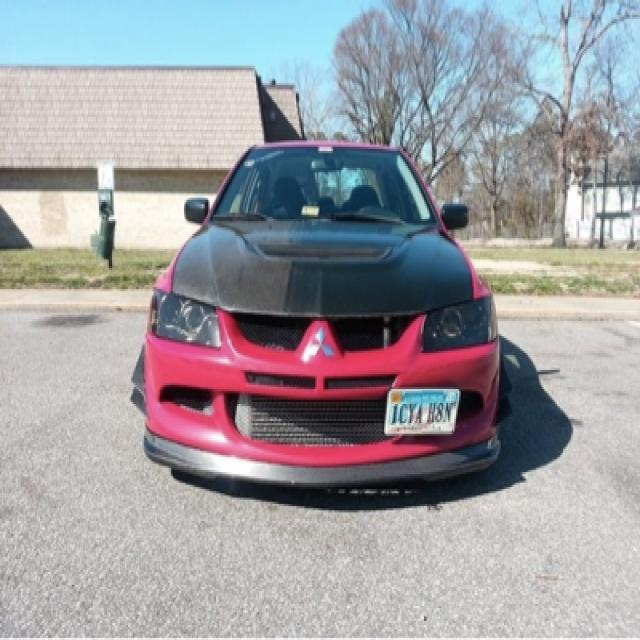licence: (388, 389, 454, 434)
